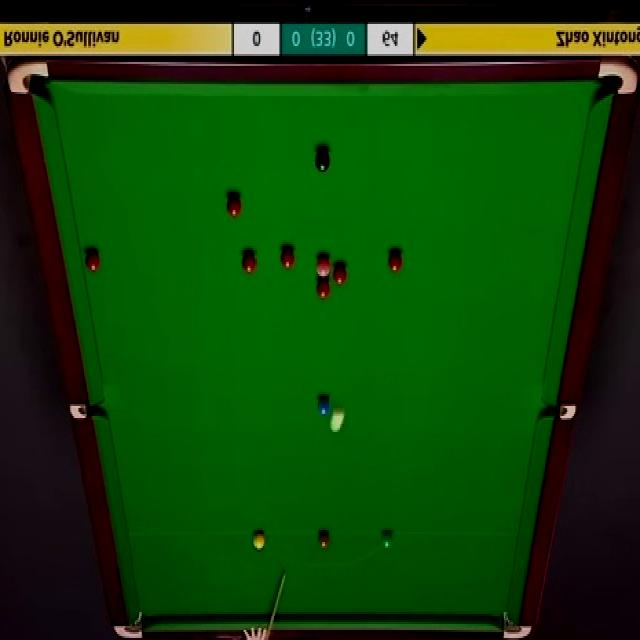black-ball: (314, 152, 330, 172)
blue-ball: (316, 398, 331, 415)
brown-ball: (324, 534, 335, 552)
green-ball: (380, 530, 395, 552)
pink-ball: (315, 255, 330, 278)
red-ball: (226, 194, 242, 218), (387, 248, 402, 272), (243, 250, 256, 275), (333, 265, 347, 287), (86, 250, 100, 271), (316, 281, 330, 300), (280, 251, 294, 270)
white-ball: (330, 407, 345, 434)
yellow-ball: (253, 530, 265, 550)
